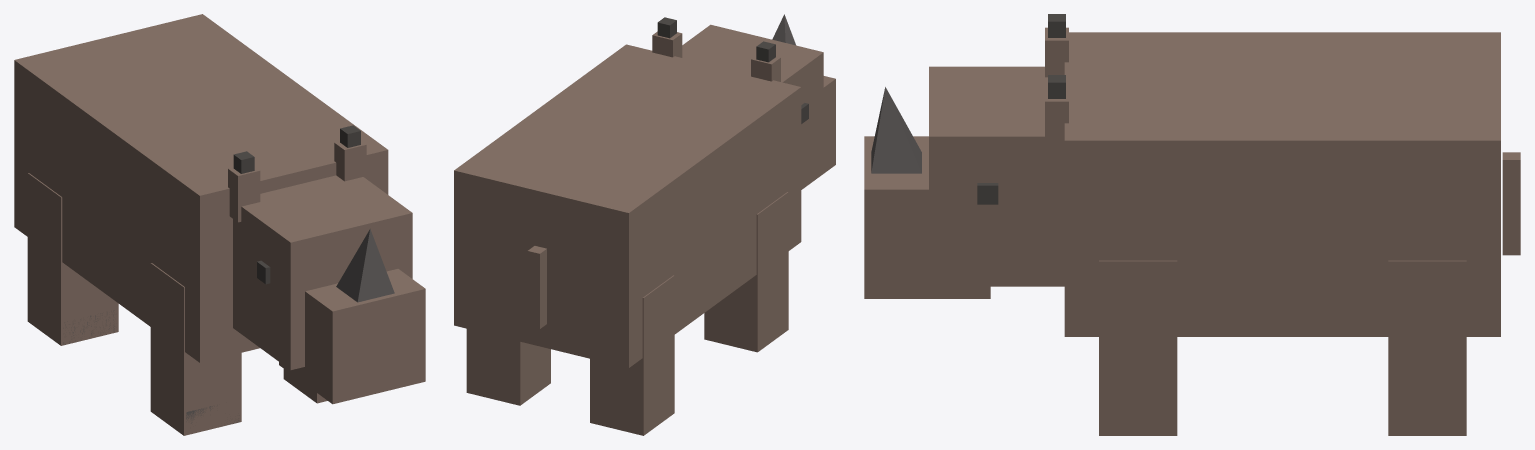
Rendered from badak_sumatera.glb.
3 renders of one model, left to right at view 1: azimuth 30°, elevation 25°; view 2: azimuth 150°, elevation 25°; view 3: azimuth 270°, elevation 25°, orthographic. The views are drawn at different scales.
Parts seen in each view (by area): view 1: badak_sumatera; view 2: badak_sumatera; view 3: badak_sumatera.
Part boxes in pixels (x1,y1,x2,y2): badak_sumatera: (14,14,425,435); badak_sumatera: (454,14,835,435); badak_sumatera: (864,14,1520,435).
Size of the model in its own units: 0.86 by 1.22 by 2.18.
